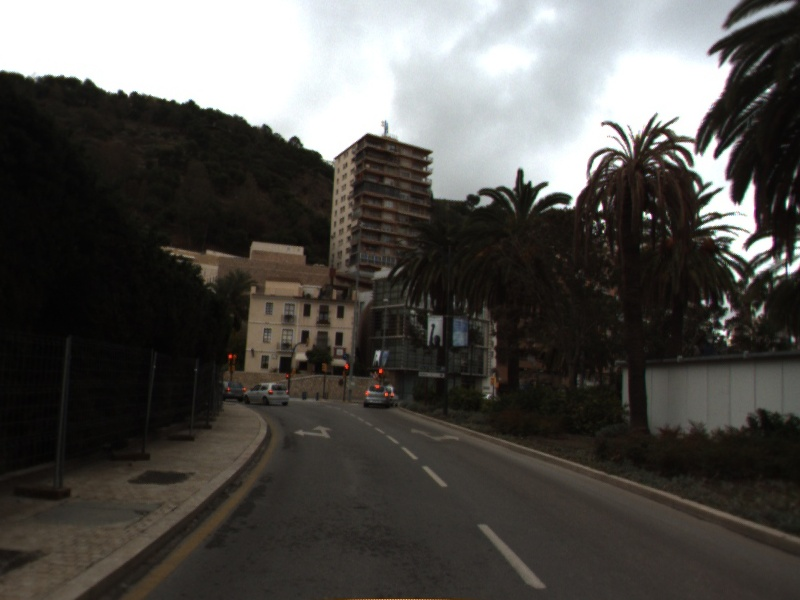STRAIGHT_LEFT: (291, 423, 336, 440)
STRAIGHT_RIGHT: (409, 424, 462, 444)
